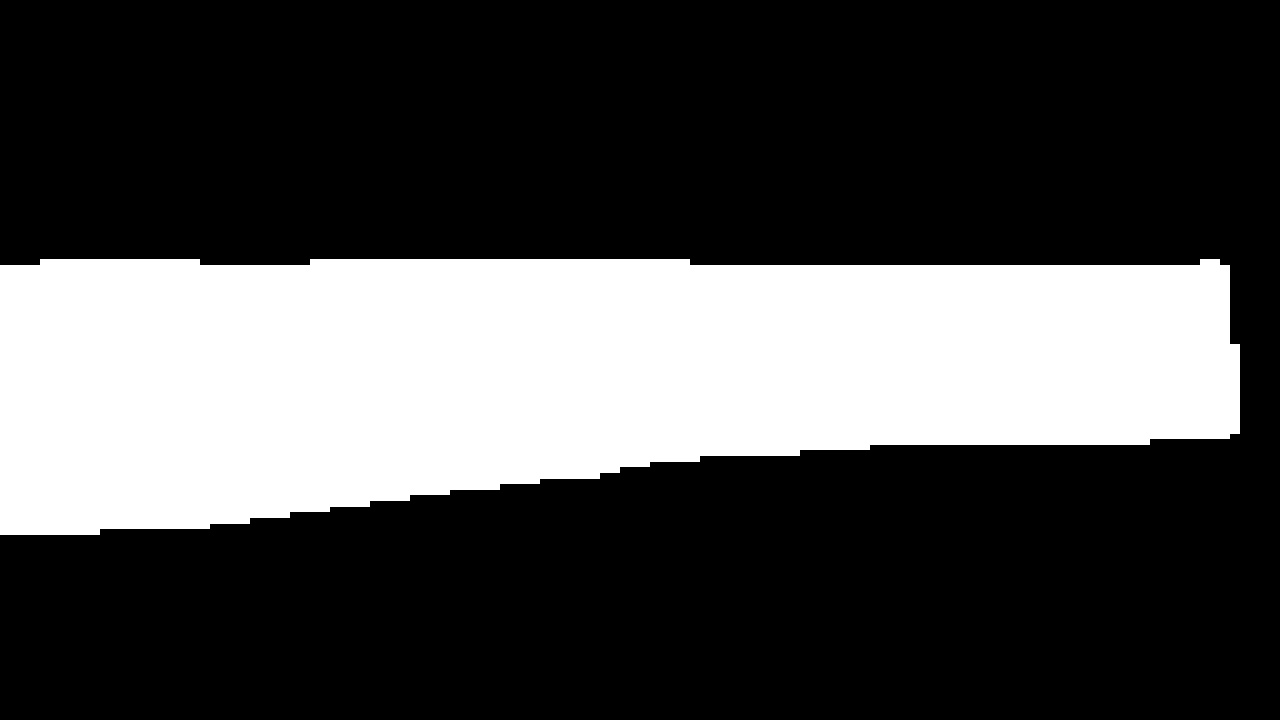Turbine: (8, 236, 1230, 545)
